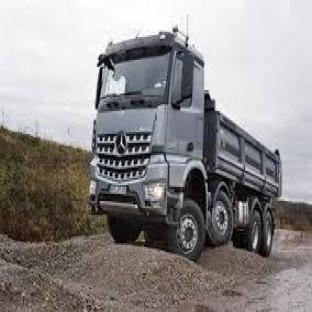Vehicle: (90, 18, 284, 262)
